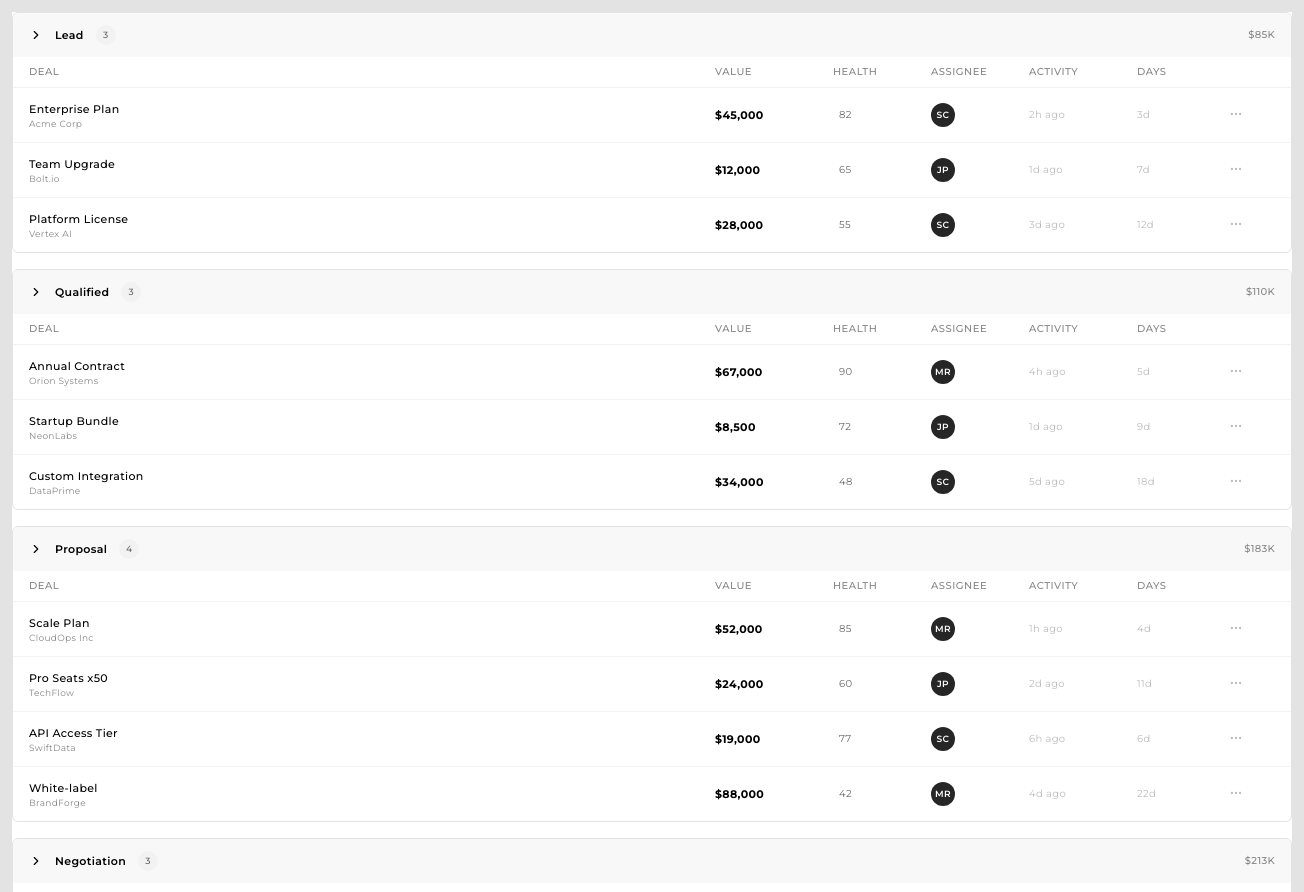
Test: PipelineListView › expands a collapsed stage group when the header is clicked again
Click the button "Lead 3 $85K": (36, 35) top-left (13, 13), bottom-right (1291, 57)
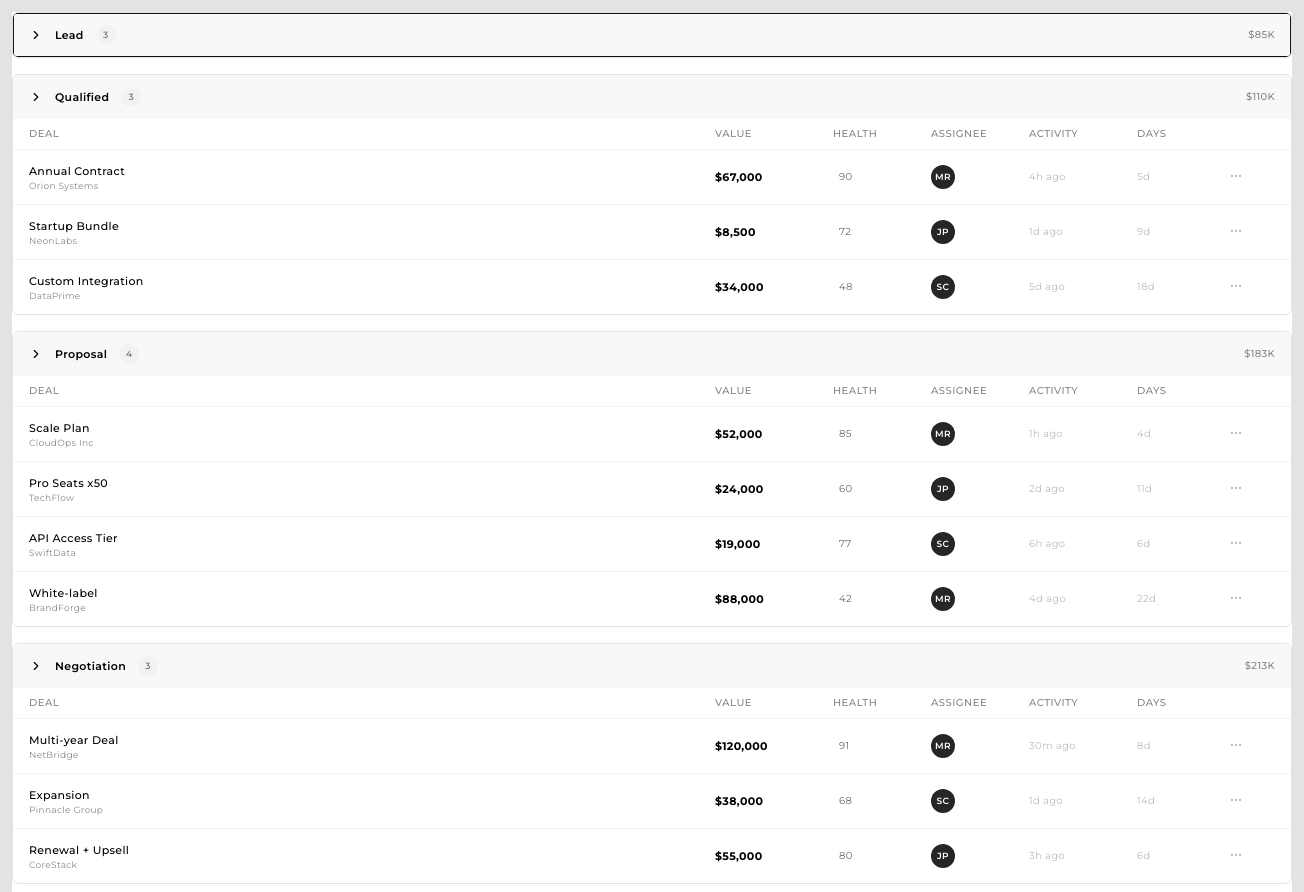
Now the text "Enterprise Plan" is gone
Click the button "Lead 3 $85K": (36, 35) top-left (13, 13), bottom-right (1291, 57)
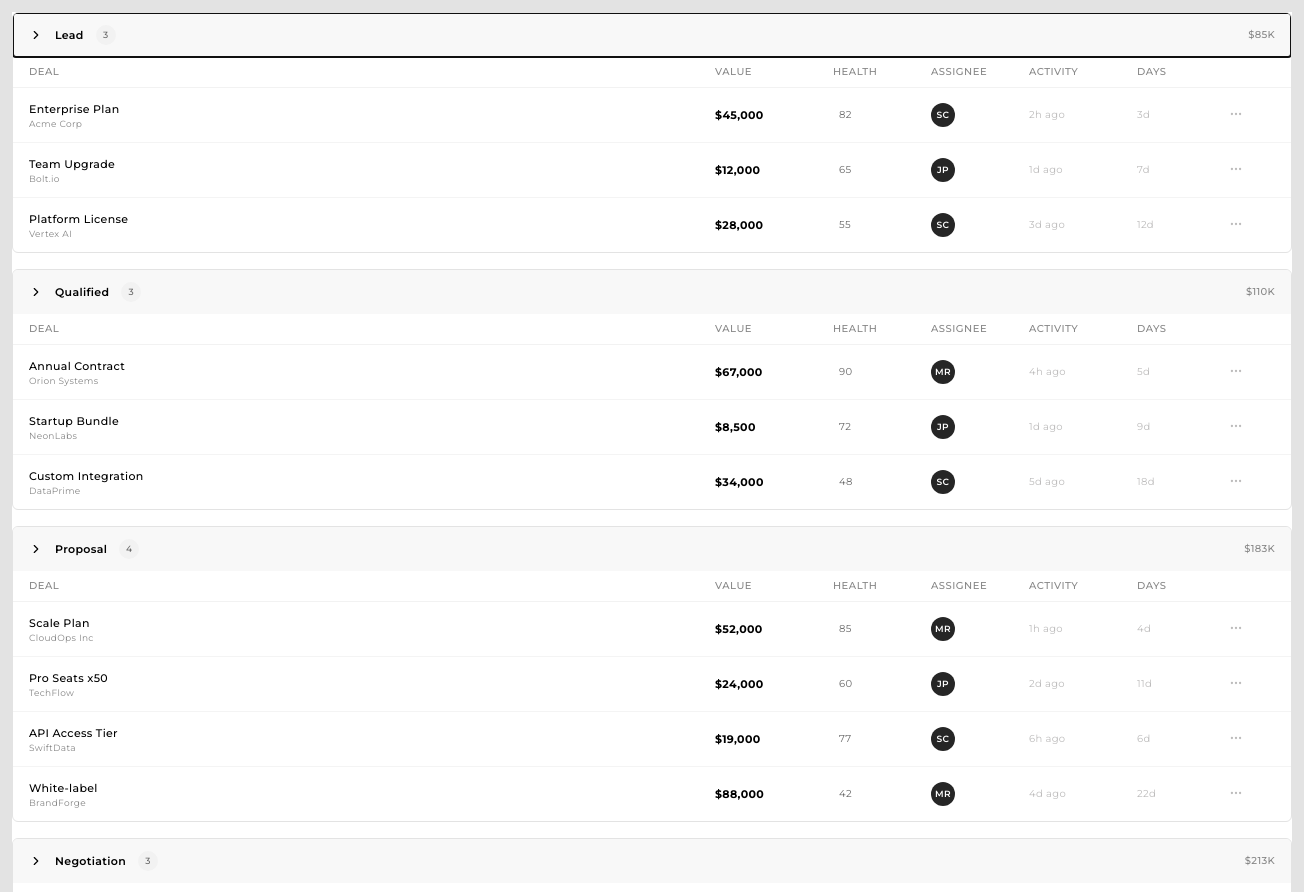
Now the text "Enterprise Plan" is shown, box top-left (29, 102), bottom-right (120, 116)
